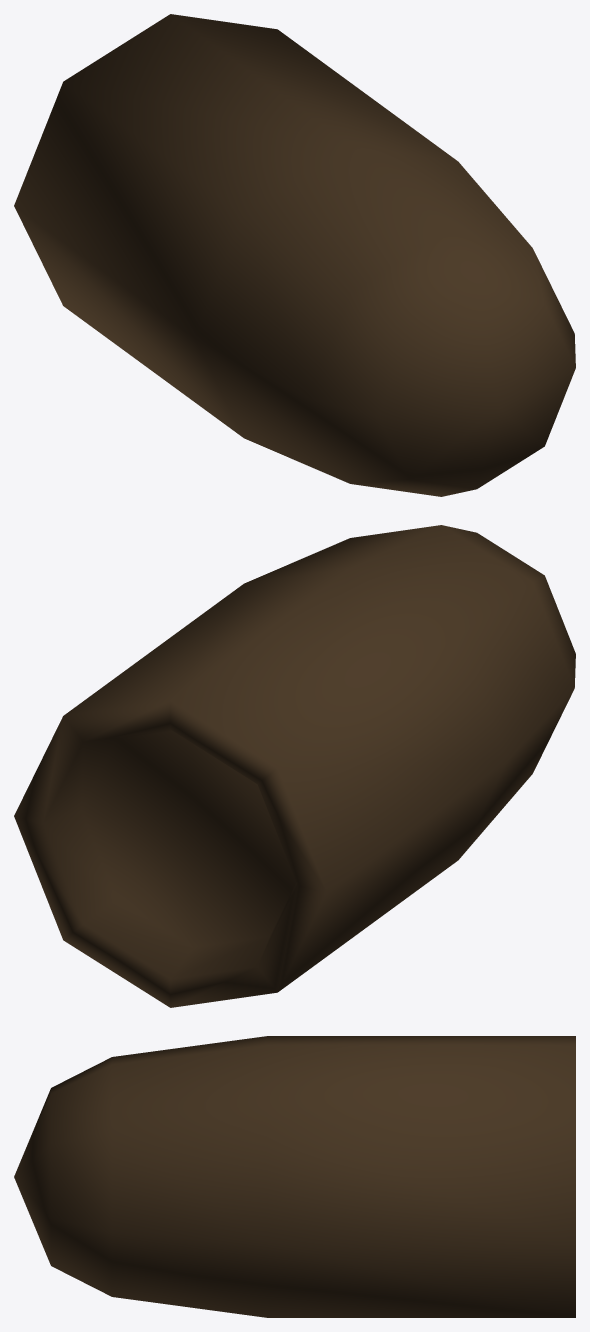
The model's file is Example_Bullet.fbx.
The picture shows the model from 3 angles, top to bottom: view 1: azimuth 30°, elevation 25°; view 2: azimuth 150°, elevation 25°; view 3: azimuth 270°, elevation 25°; orthographic projection. The views are drawn at different scales.
Visible parts, largest first — view 1: Cube; view 2: Cube; view 3: Cube.
Part boxes in pixels (x1=…): Cube: x1=14, y1=14, x2=575, y2=496; Cube: x1=14, y1=525, x2=575, y2=1007; Cube: x1=14, y1=1036, x2=575, y2=1317.
Bounding box in the file's own units: 40 × 37.54 × 72.67.
